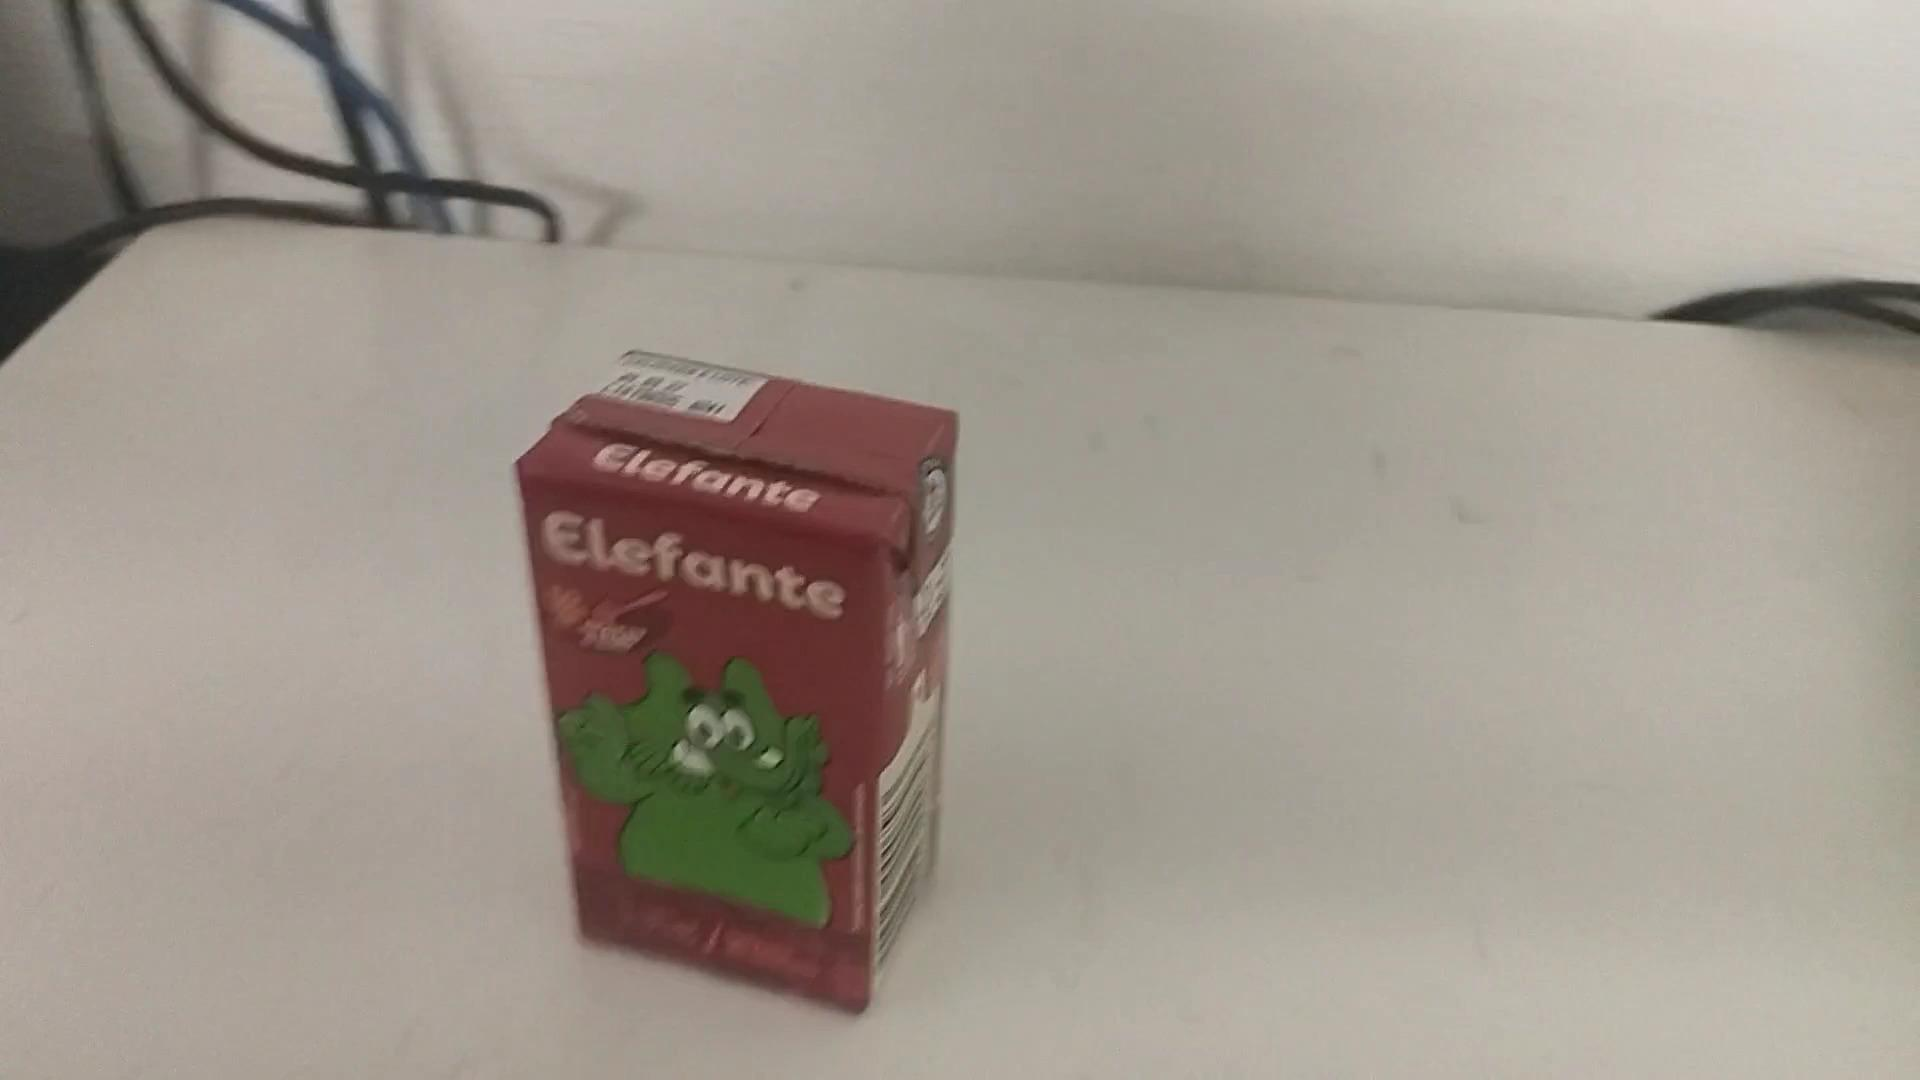tomate: (509, 345, 965, 1015)
